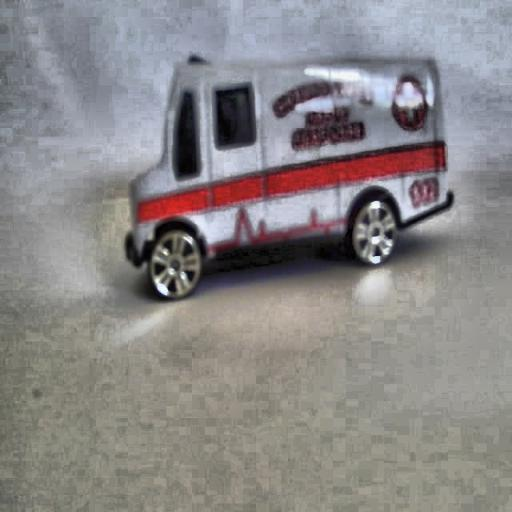ambulance: (124, 53, 453, 300)
